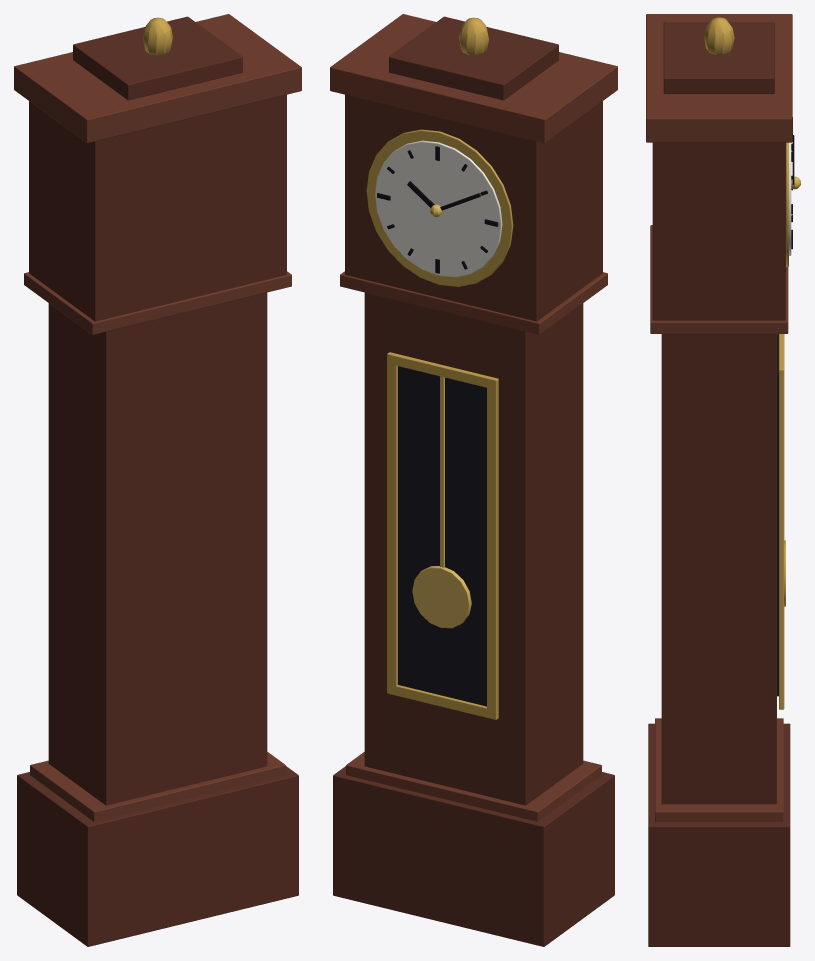
File: SM_PRP_RelogioPendulo.fbx
3 renders of one model, left to right at view 1: azimuth 30°, elevation 25°; view 2: azimuth 150°, elevation 25°; view 3: azimuth 270°, elevation 25°, orthographic.
Visible parts, largest first — view 1: SM_PRP_RelogioPendulo; view 2: SM_PRP_RelogioPendulo; view 3: SM_PRP_RelogioPendulo.
Boxes of the visible parts, x1=… form: SM_PRP_RelogioPendulo: x1=14, y1=14, x2=301, y2=946; SM_PRP_RelogioPendulo: x1=330, y1=14, x2=617, y2=946; SM_PRP_RelogioPendulo: x1=646, y1=14, x2=800, y2=946.
Bounding box in the file's own units: 0.56 × 2.18 × 0.3488.
